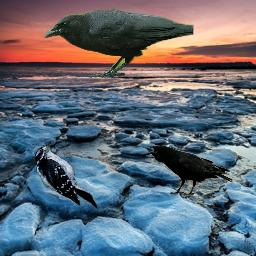Crow: (43, 9, 194, 80), (146, 145, 233, 196)
Woodpecker: (33, 141, 99, 209)
